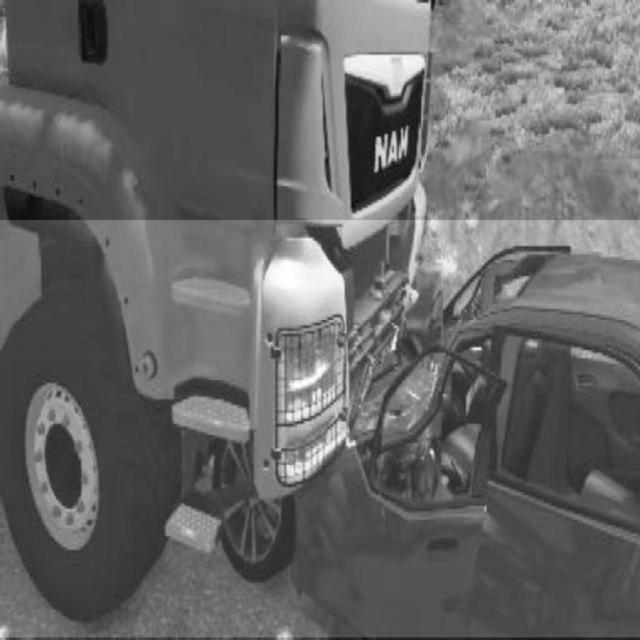accident: (0, 220, 640, 638)
